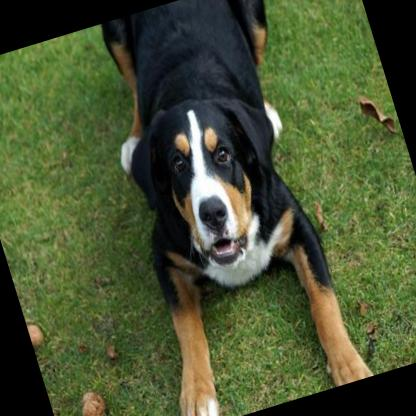Appenzeller: (59, 0, 375, 416)
